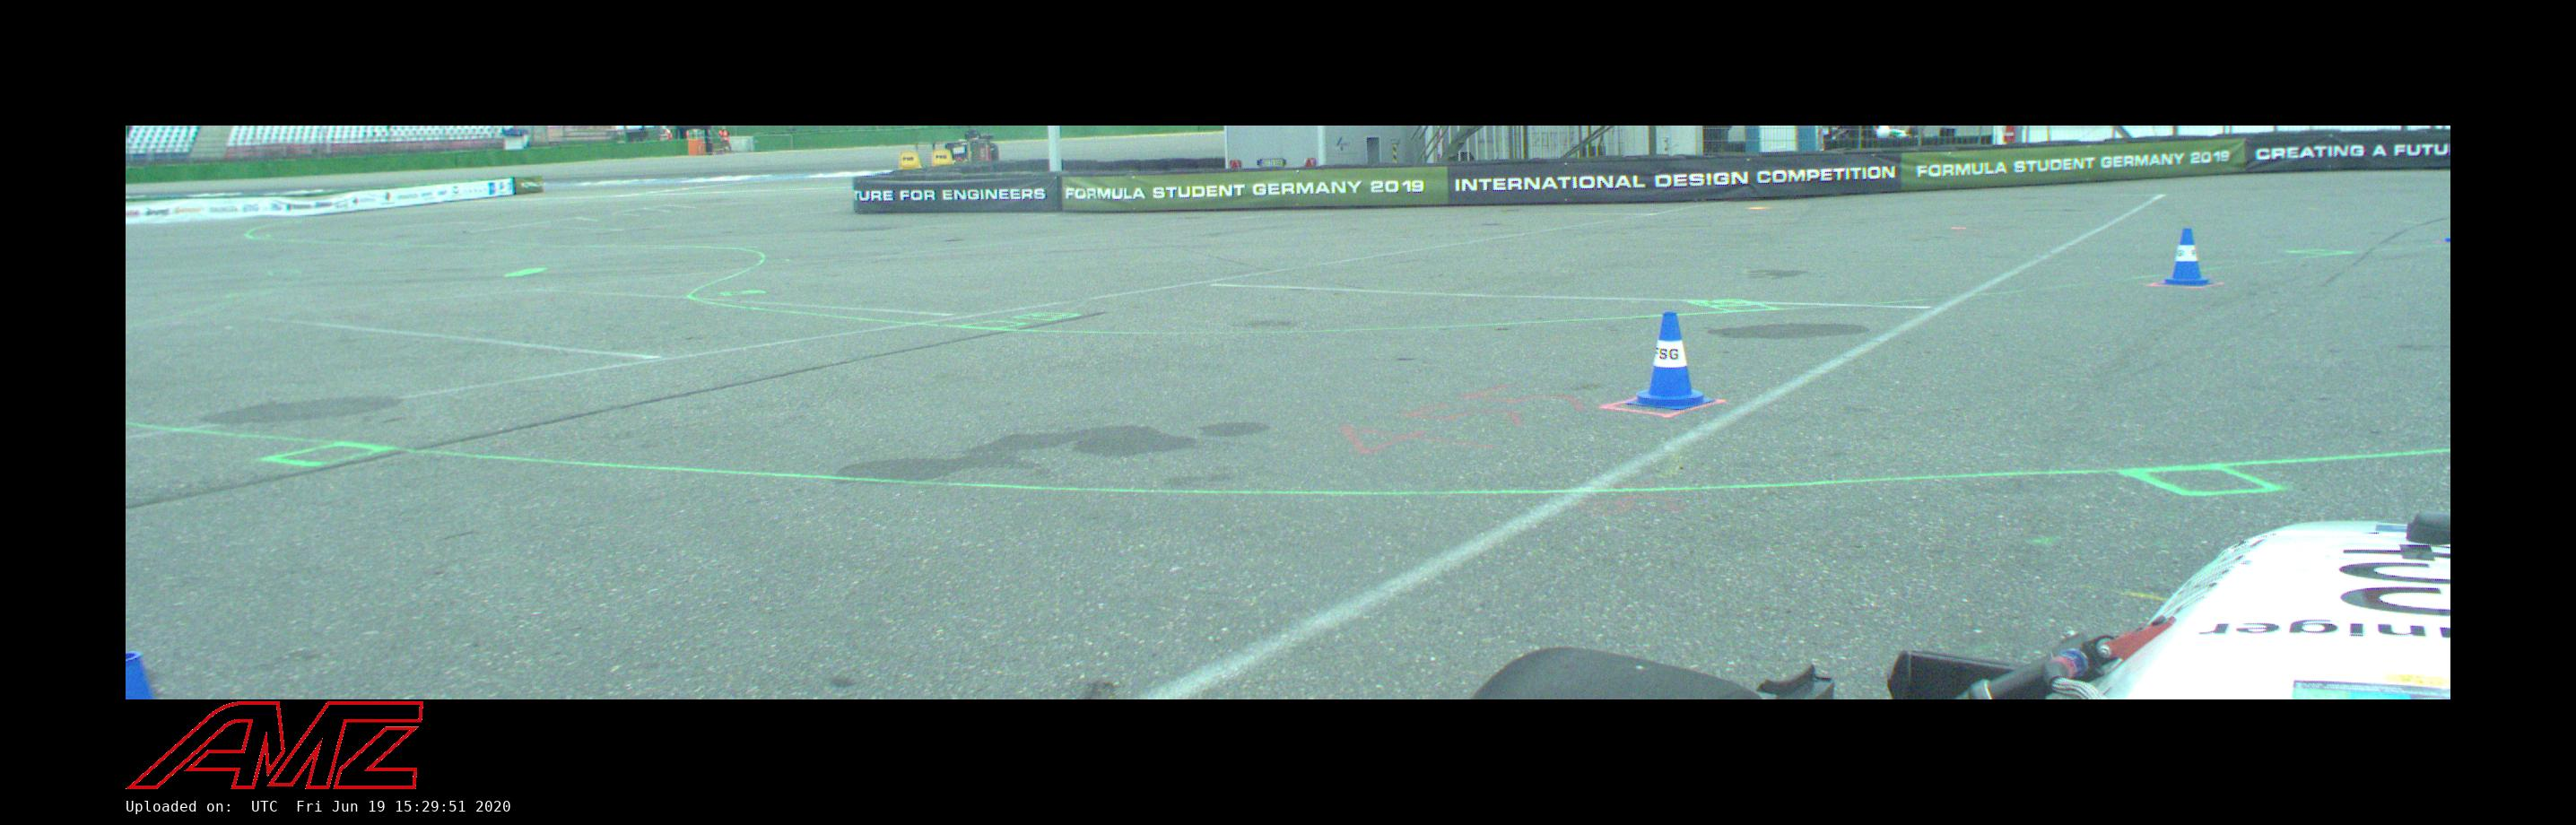blue_cone: (1626, 312, 1714, 409), (2164, 228, 2213, 286)
